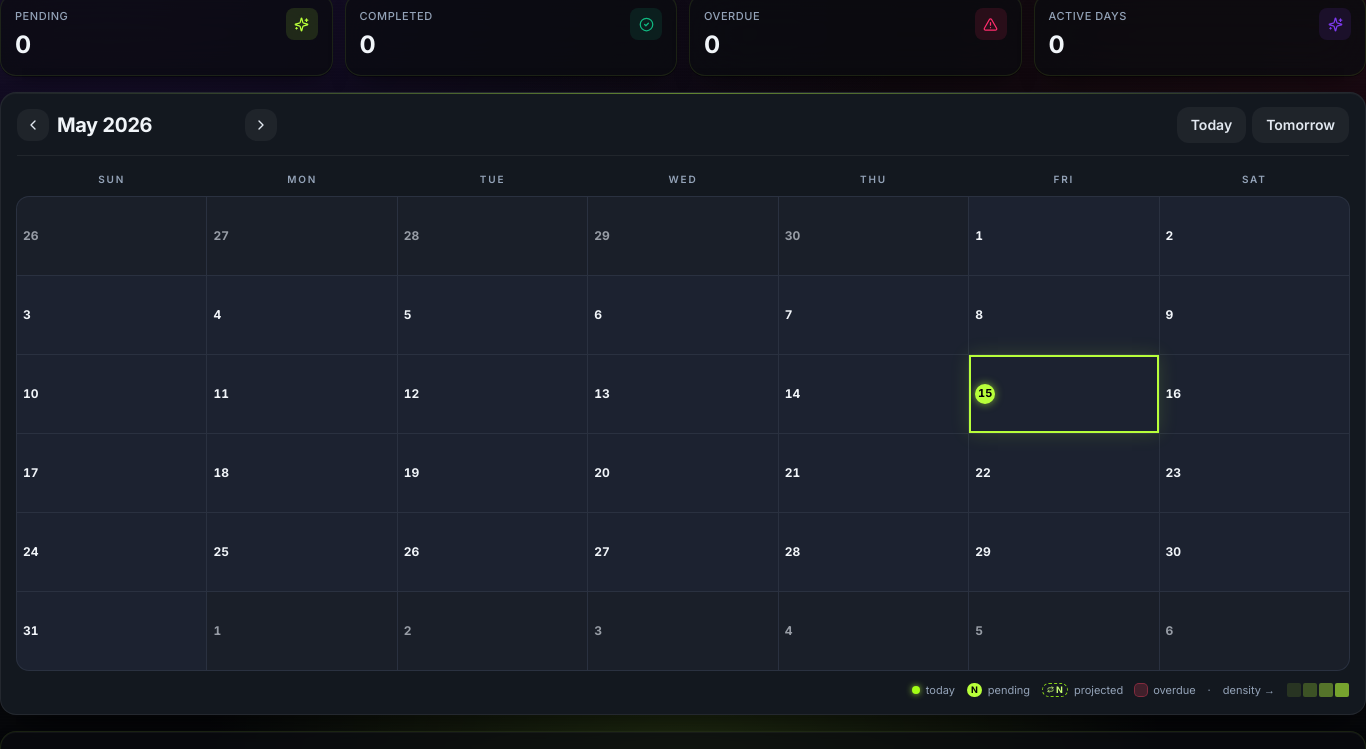
Scenario: Calendar · navigation › Tomorrow button selects the next day
Click the button "Tomorrow".
click(1301, 124)  # box [1252, 106, 1349, 142]
(page scrolled)
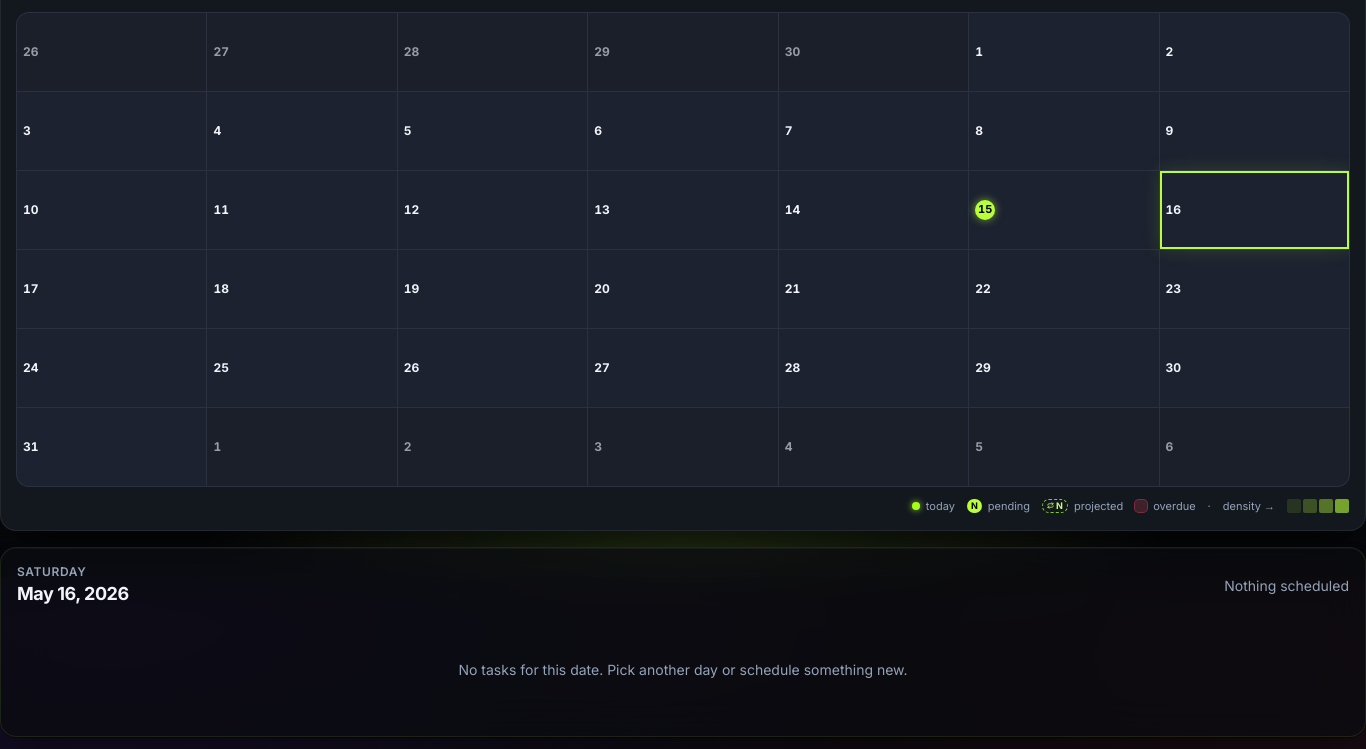
Expected: the heading "May 16, 2026" is shown, [17, 580, 129, 608]
